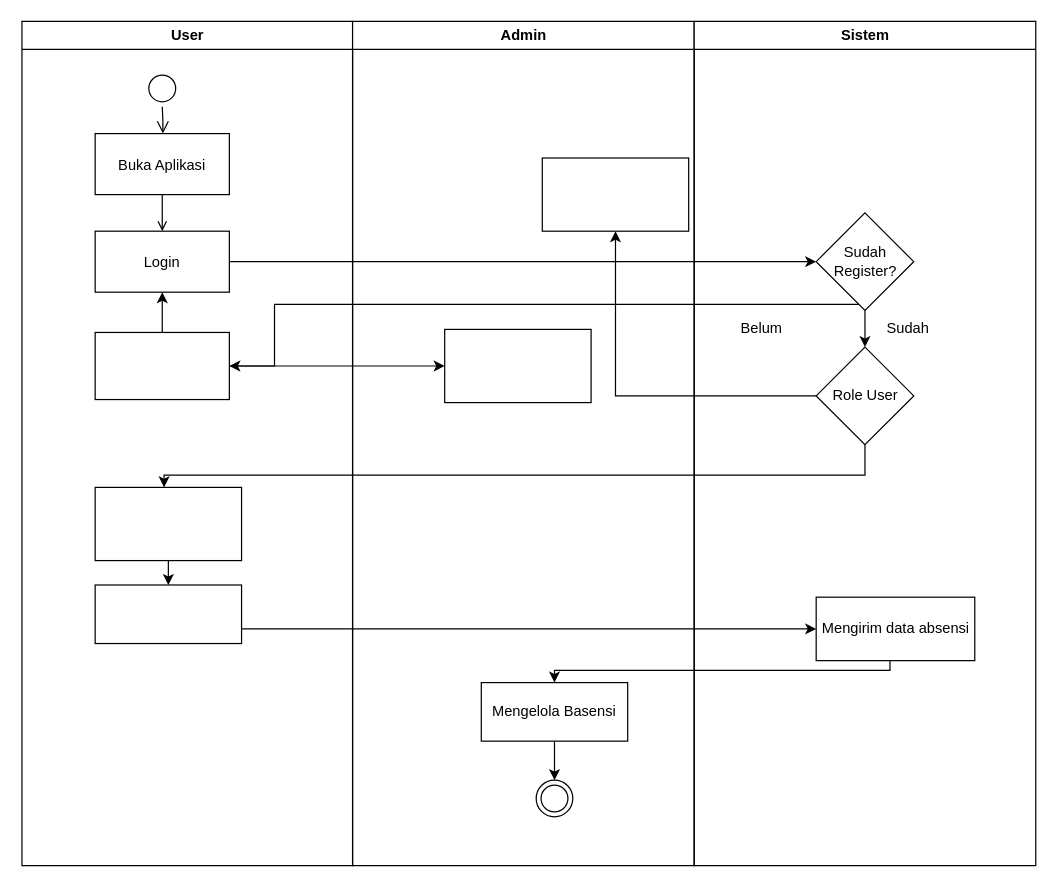
Some shapes in this 1057 by 887 pixel diagram are drawn without their labels. Each missing label, with the centre of its shape:
"Approve User" belongs at (x=517, y=365).
"Dashboard admin" belongs at (x=615, y=194).
"Dashboard User" belongs at (x=168, y=523).
"Mengisi Data2 Absensi" belongs at (x=168, y=614).
"Register akun" belongs at (x=161, y=365).
